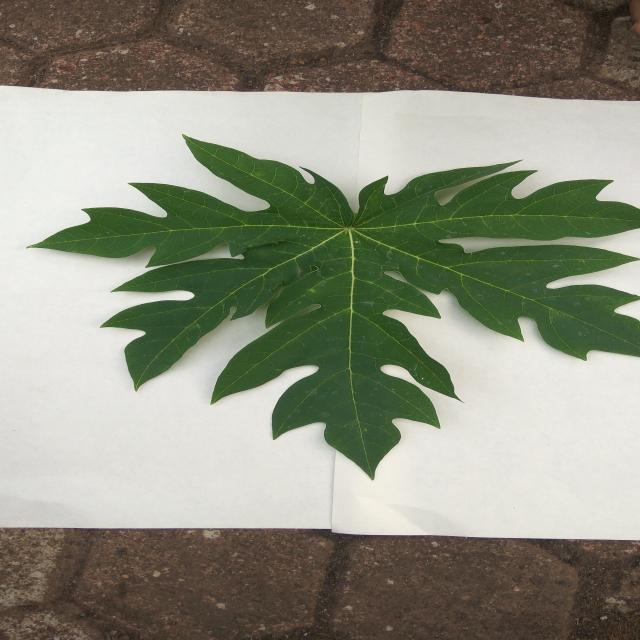papaya: (33, 136, 638, 476)
